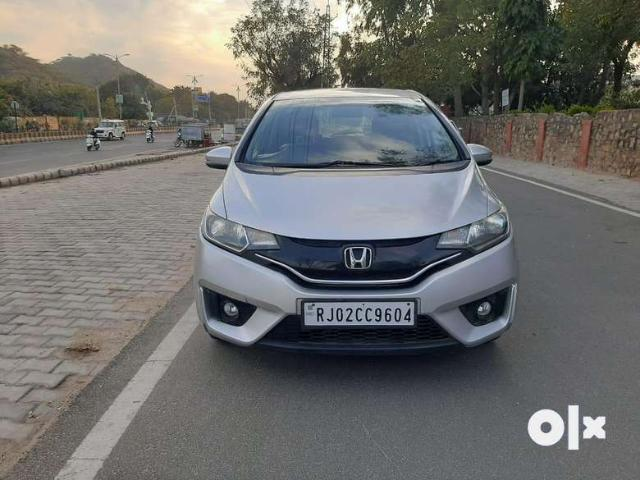Indian_Number_Plate: (300, 298, 418, 329)
